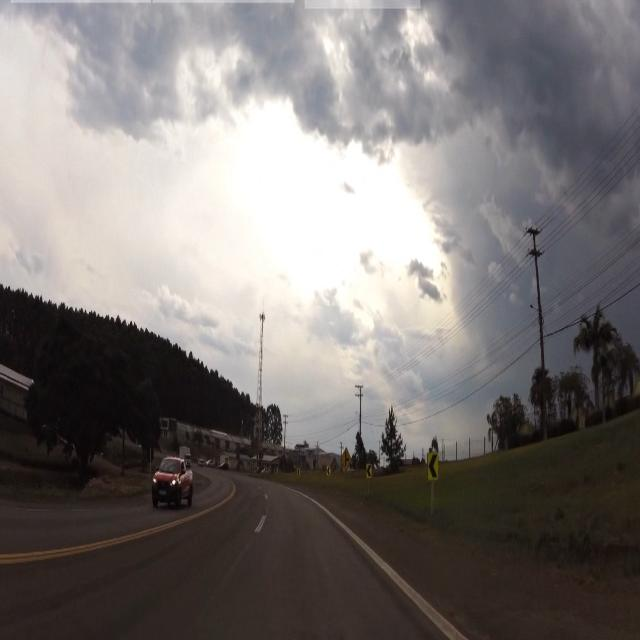A-7b: (340, 447, 352, 470)
Del: (428, 452, 440, 482), (367, 461, 372, 481)
